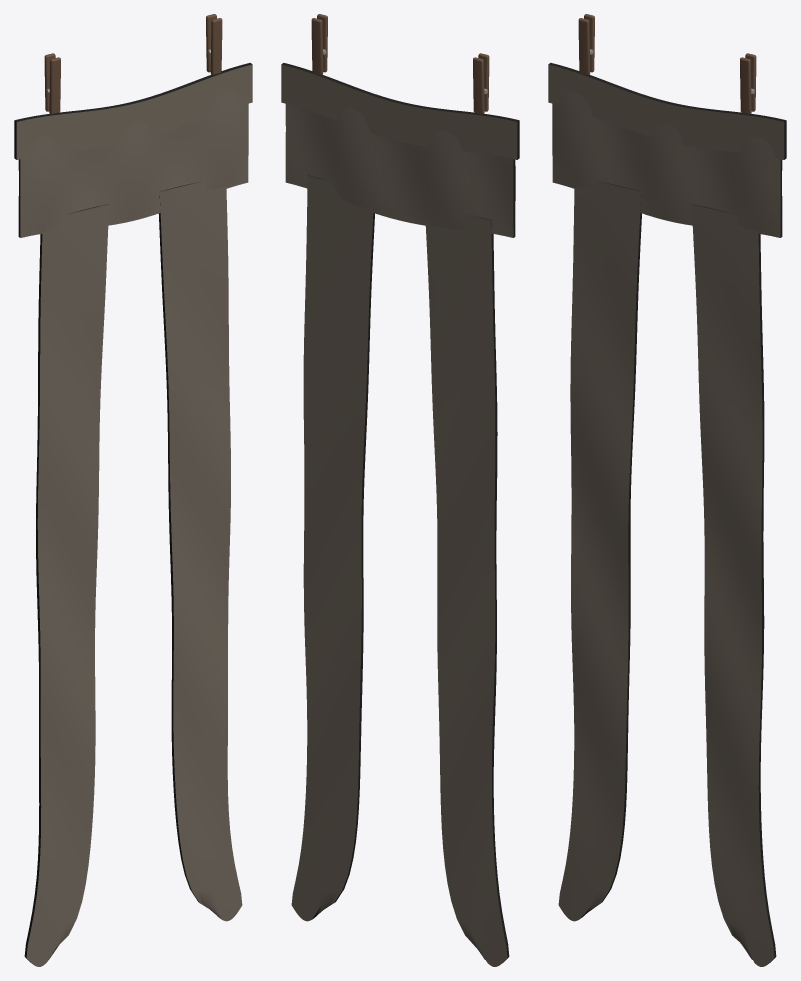
The model's file is tights-line-vibe-b2390a5e2f59.glb.
3 renders of one model, left to right at view 1: azimuth 30°, elevation 25°; view 2: azimuth 150°, elevation 25°; view 3: azimuth 330°, elevation 25°, orthographic.
Parts seen in each view (by area): view 1: cover-cloth, rubber, wood; view 2: cover-cloth, rubber, wood; view 3: cover-cloth, rubber, wood.
Boxes of the visible parts, <box> form: cover-cloth: <box>16,64,252,966</box>; rubber: <box>14,63,252,962</box>; wood: <box>44,14,222,114</box>; cover-cloth: <box>281,64,517,966</box>; rubber: <box>281,63,519,962</box>; wood: <box>311,14,489,114</box>; cover-cloth: <box>548,64,784,966</box>; rubber: <box>548,63,786,962</box>; wood: <box>578,14,756,114</box>.
Size of the model in its own units: 0.24 by 0.881 by 0.014.
